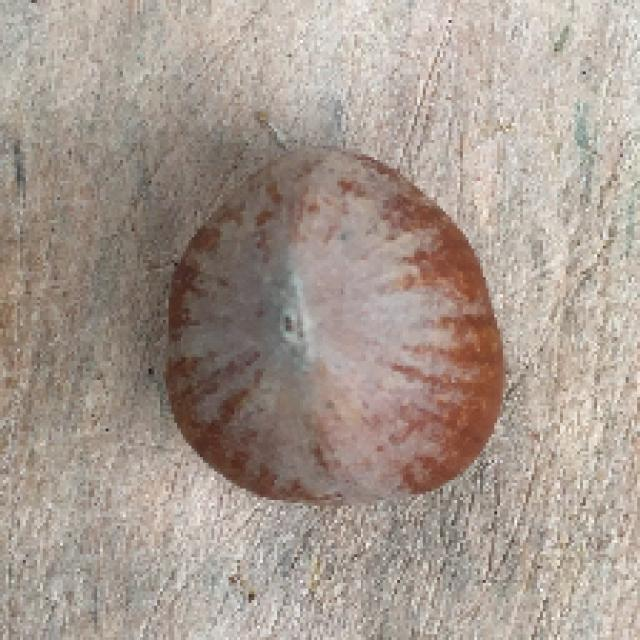QualityHazelnut: (160, 142, 506, 509)
